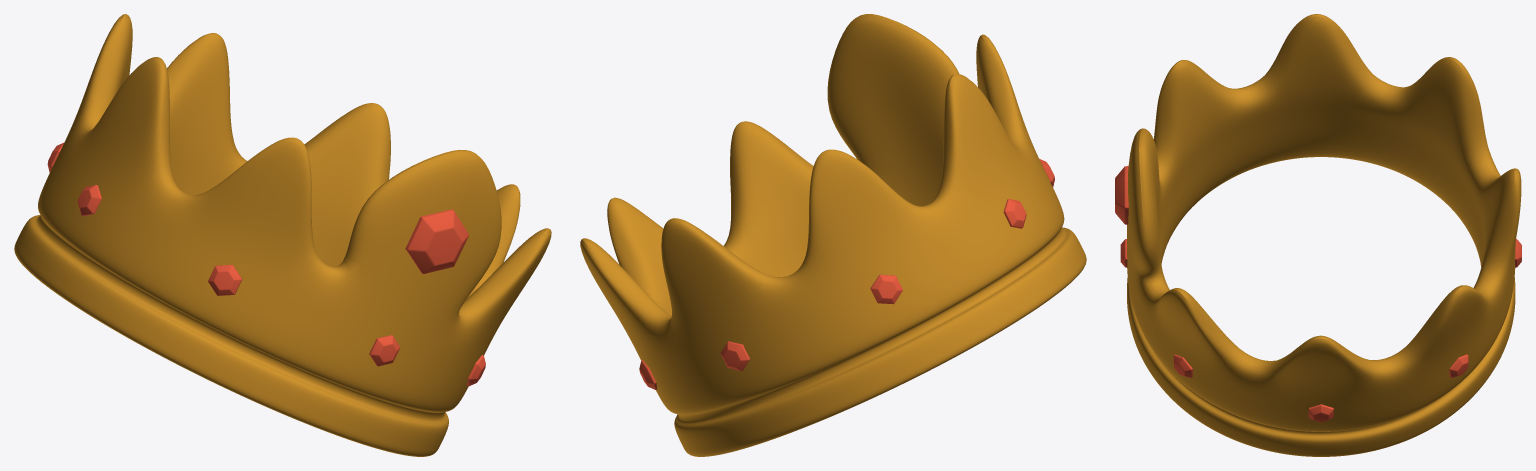
The model's file is Crown.fbx.
3 views of the same model, side by side, from view 1: azimuth 30°, elevation 25°; view 2: azimuth 150°, elevation 25°; view 3: azimuth 270°, elevation 25° (orthographic). The views are drawn at different scales.
Visible parts, largest first — view 1: Cylinder.001, Cylinder.002, Cylinder.010; view 2: Cylinder.001, Cylinder.010; view 3: Cylinder.001, Cylinder.010, Cylinder.002.
Part boxes in pixels (<box>): Cylinder.001: <box>14,14,551,456</box>; Cylinder.002: <box>405,209,468,273</box>; Cylinder.010: <box>47,142,485,386</box>; Cylinder.001: <box>580,14,1086,456</box>; Cylinder.010: <box>639,159,1054,389</box>; Cylinder.001: <box>1127,14,1521,456</box>; Cylinder.010: <box>1120,239,1521,422</box>; Cylinder.002: <box>1115,166,1128,224</box>.
Bounding box in the file's own units: 147 × 126 × 135.
